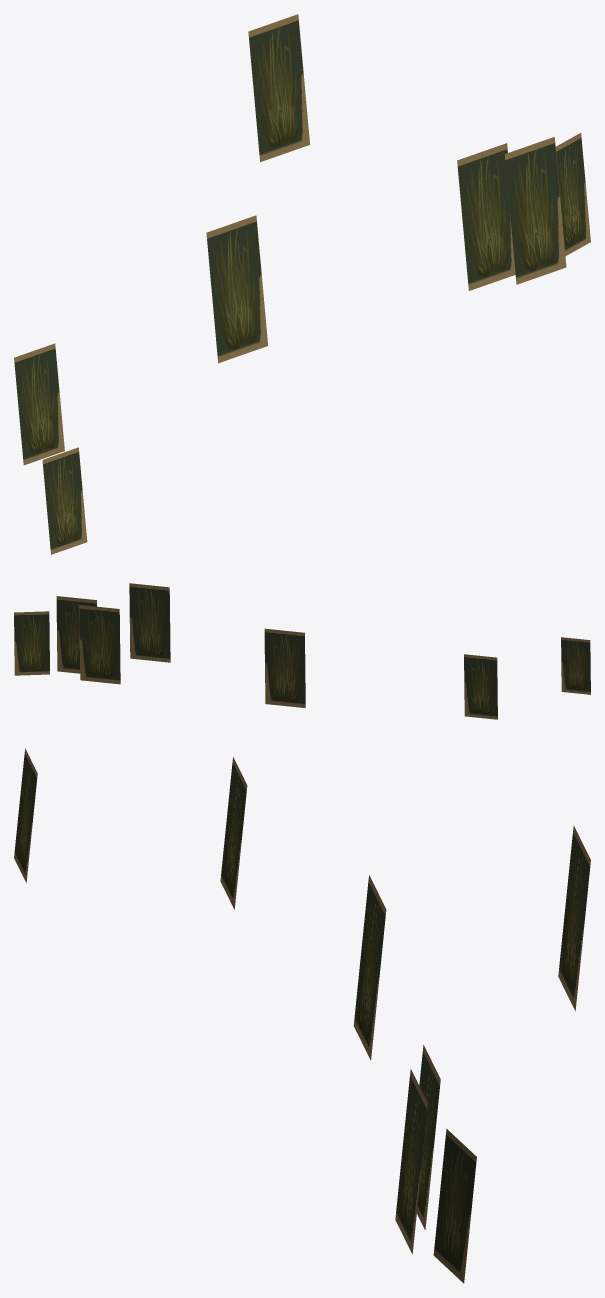
The model's file is object_grass_polys01.fbx.
3 renders of one model, top to bottom at view 1: azimuth 30°, elevation 25°; view 2: azimuth 150°, elevation 25°; view 3: azimuth 270°, elevation 25°, orthographic. The views are drawn at different scales.
Visible parts, largest first — view 1: Material_#238683980/town_grass_mat; view 2: Material_#238683980/town_grass_mat; view 3: Material_#238683980/town_grass_mat.
Boxes of the visible parts, bbox=[...] form: Material_#238683980/town_grass_mat: bbox=[14, 14, 590, 554]; Material_#238683980/town_grass_mat: bbox=[14, 583, 590, 719]; Material_#238683980/town_grass_mat: bbox=[14, 748, 590, 1283].
Size of the model in its own units: 17.39 by 5.61 by 10.1.
